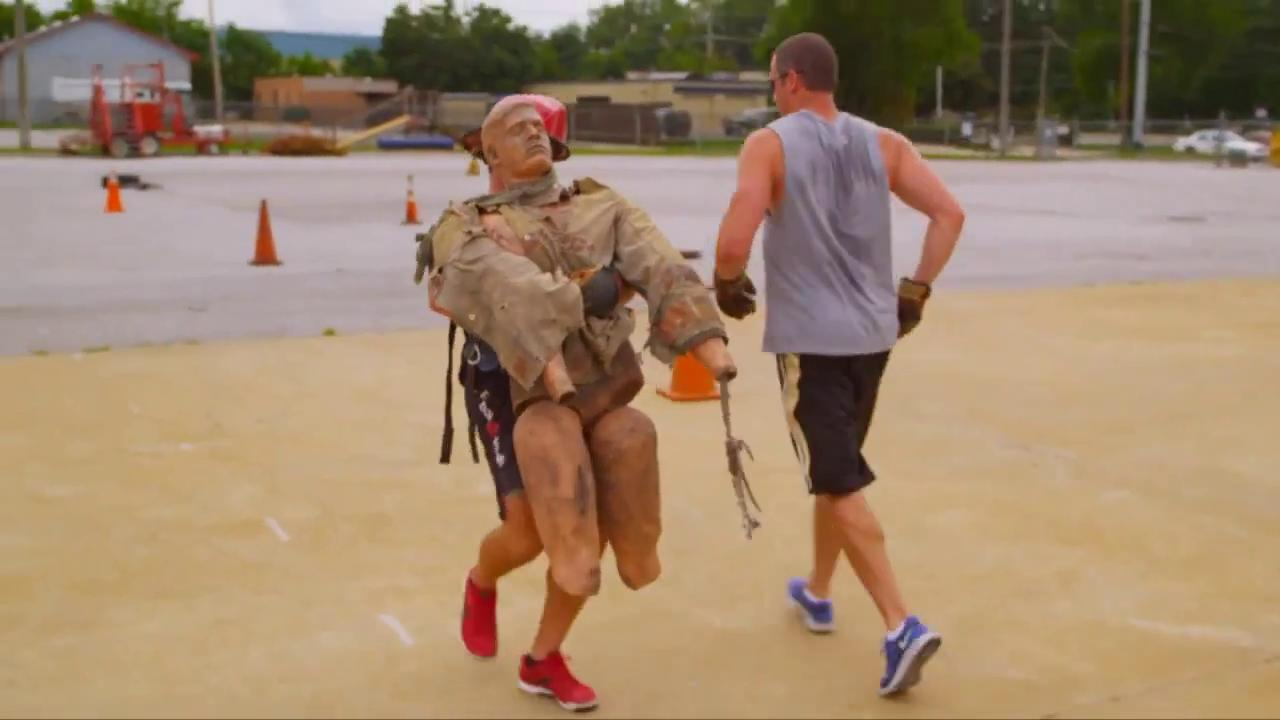victim: (409, 100, 706, 716), (711, 30, 970, 717)
